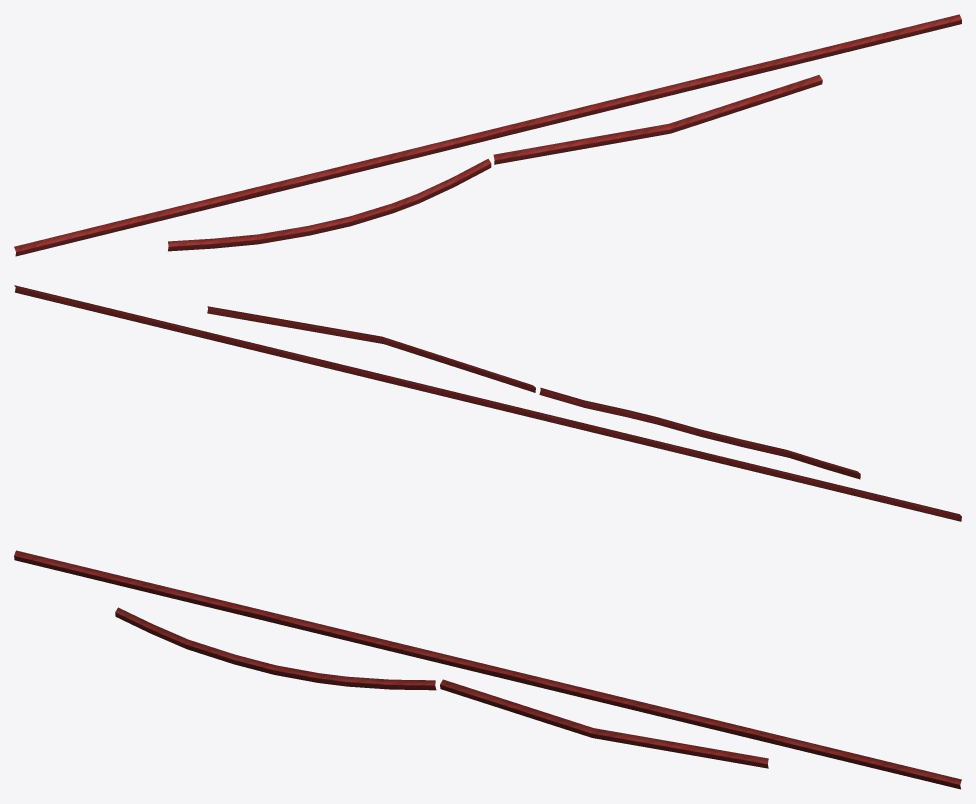
Rendered from ZC_caitiao02.FBX.
3 views of the same model, one above another, from view 1: azimuth 30°, elevation 25°; view 2: azimuth 150°, elevation 25°; view 3: azimuth 330°, elevation 25° (orthographic).
Visible parts, largest first — view 1: ZC_caitiao02_001, ZC_caitiao02_003, ZC_caitiao02_002; view 2: ZC_caitiao02_001, ZC_caitiao02_002, ZC_caitiao02_003; view 3: ZC_caitiao02_001, ZC_caitiao02_003, ZC_caitiao02_002.
Boxes of the visible parts, x1=… form: ZC_caitiao02_001: x1=14, y1=14, x2=961, y2=256; ZC_caitiao02_003: x1=493, y1=75, x2=822, y2=164; ZC_caitiao02_002: x1=168, y1=158, x2=491, y2=251; ZC_caitiao02_001: x1=14, y1=285, x2=961, y2=521; ZC_caitiao02_002: x1=539, y1=387, x2=860, y2=479; ZC_caitiao02_003: x1=207, y1=306, x2=535, y2=392; ZC_caitiao02_001: x1=14, y1=550, x2=961, y2=789; ZC_caitiao02_003: x1=440, y1=679, x2=768, y2=768; ZC_caitiao02_002: x1=115, y1=607, x2=436, y2=690.
Bounding box in the file's own units: 2804 × 67.15 × 213.
Materials: 1 (1 with a texture image).
